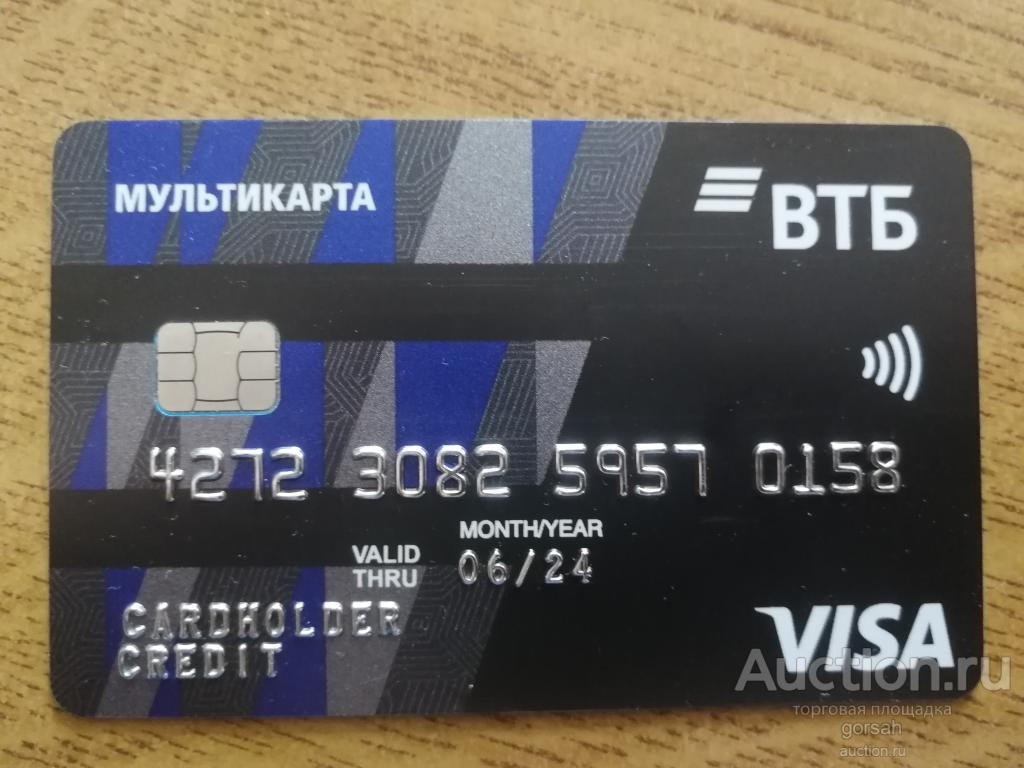card: (48, 119, 984, 719)
